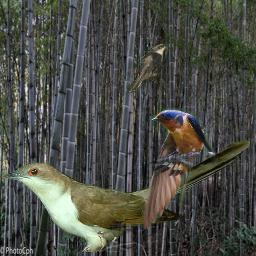Cuckoo: (2, 138, 250, 252), (126, 44, 168, 93)
Swallow: (141, 108, 218, 230)
